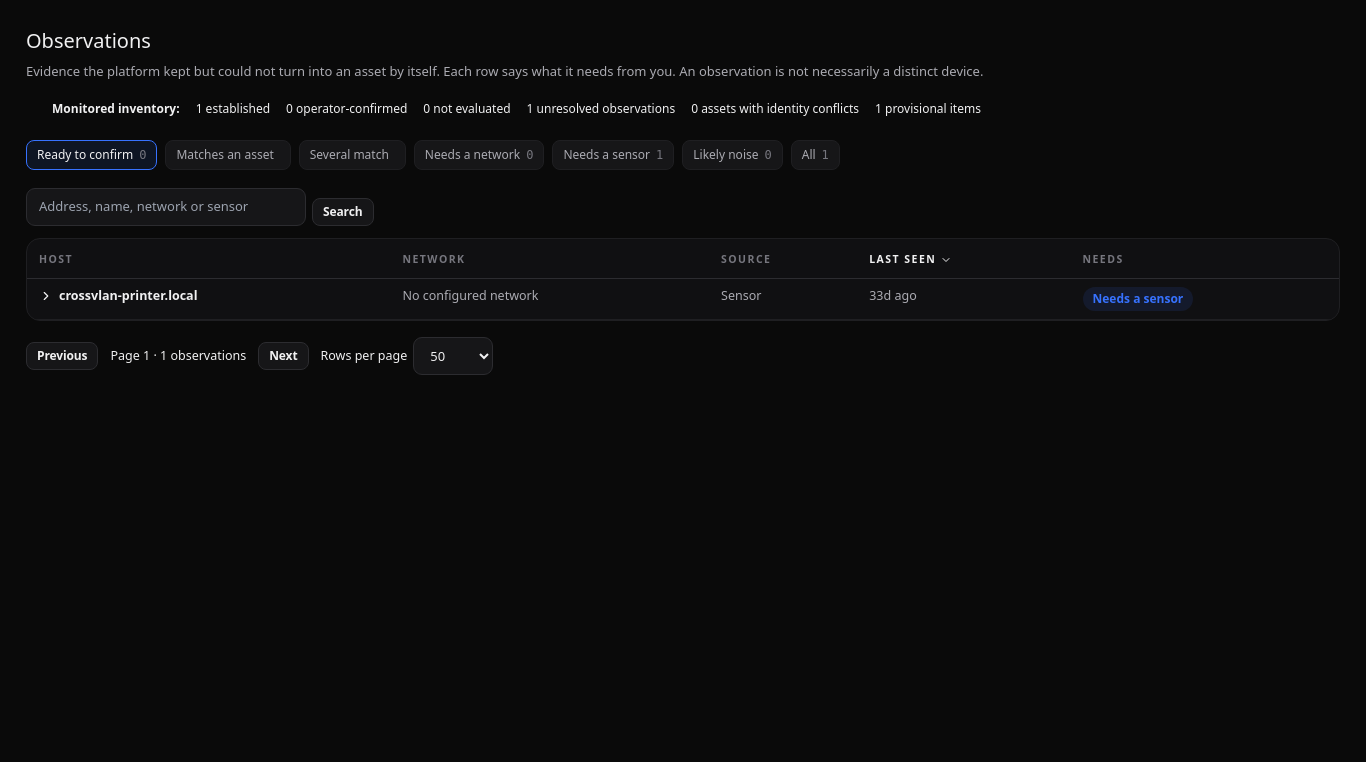
leads an unresolved observation to the provisional item it produced
Click the button "crossvlan-printer.local". click: (118, 296)
box: left=39, top=287, right=198, bottom=306
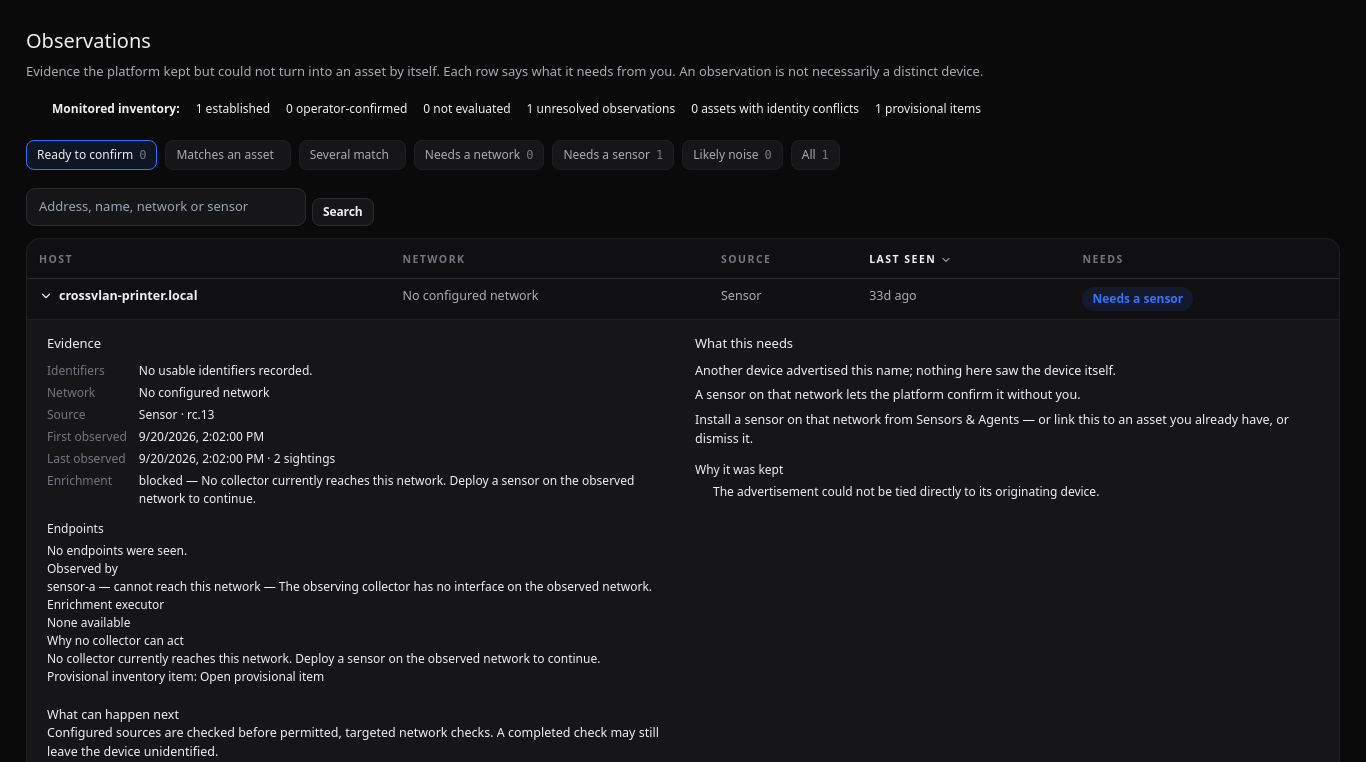
Expected: the text "Provisional inventory item:" is shown, left=47, top=668, right=200, bottom=684
